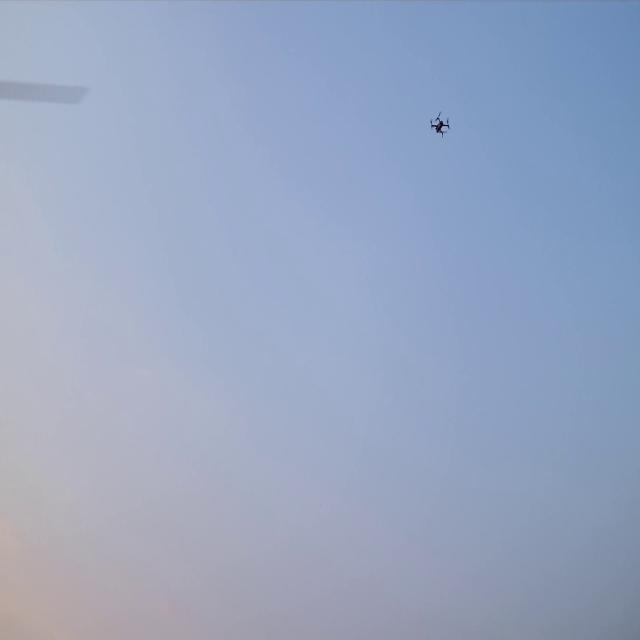UAV: (431, 116, 449, 134)
